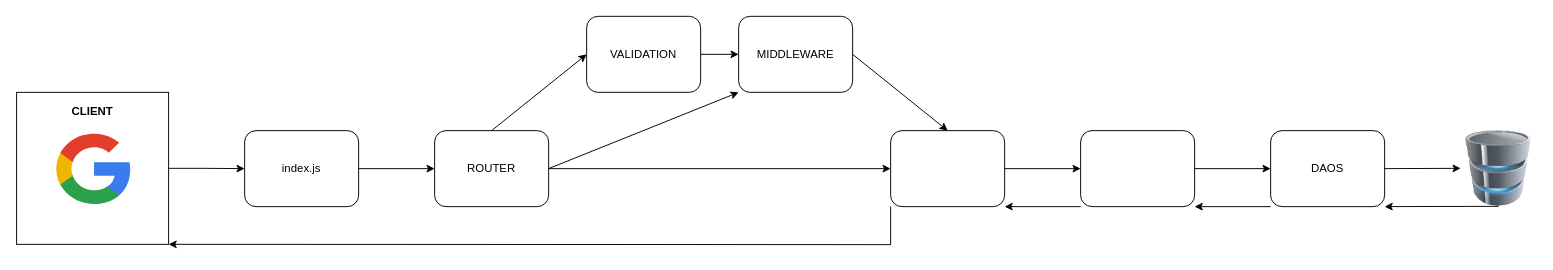
The diagram is 1553 pixels wide and 270 high, and some of its shapes have lost their labels. Each missing label, with the box of its shape:
CONTROLLER: (890, 130, 1005, 207)
SERVICES: (1080, 130, 1195, 207)
